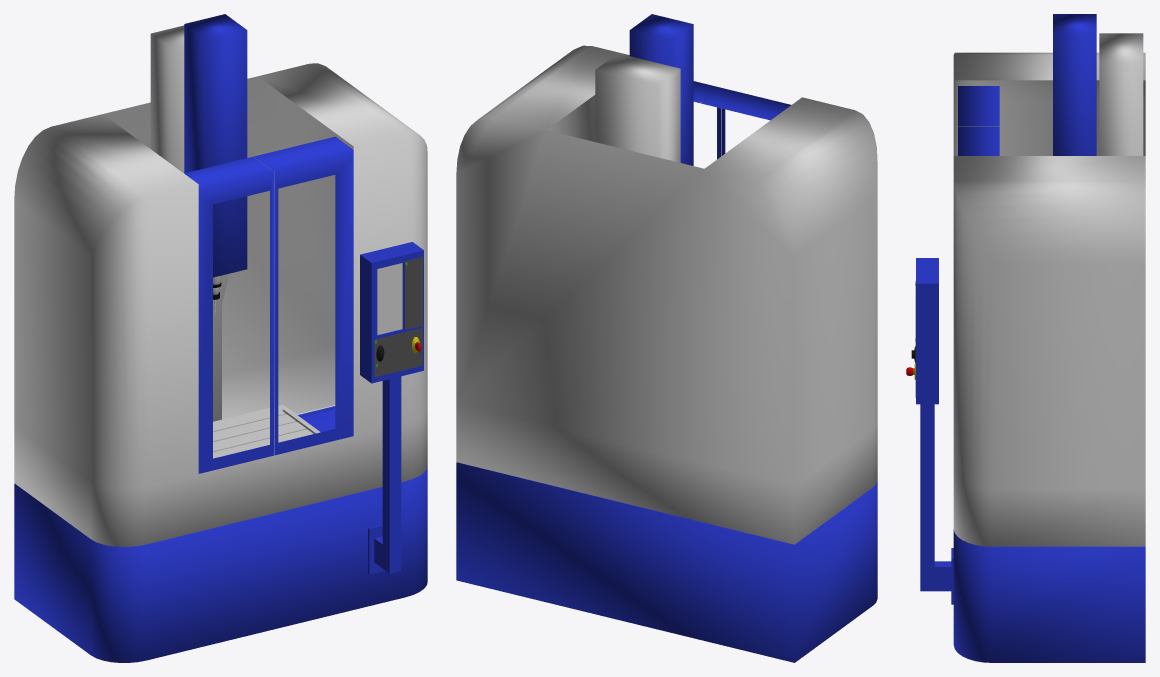
File: CNCMill1_clean_scaled.dae
3 renders of one model, left to right at view 1: azimuth 30°, elevation 25°; view 2: azimuth 150°, elevation 25°; view 3: azimuth 270°, elevation 25°, orthographic.
Visible parts, largest first — view 1: Cube, Cube_002, Cube_003, Cube_004, Cube_005, Cube_001; view 2: Cube, Cube_002, Cube_003; view 3: Cube, Cube_002, Cube_003, Cube_004.
Part boxes in pixels (x1,y1,x2,y2): Cube: [14, 63, 427, 546]; Cube_002: [14, 406, 427, 662]; Cube_003: [150, 14, 247, 421]; Cube_004: [360, 242, 423, 574]; Cube_005: [374, 257, 422, 377]; Cube_001: [213, 405, 320, 458]; Cube: [456, 45, 877, 544]; Cube_002: [456, 462, 877, 662]; Cube_003: [595, 14, 693, 165]; Cube: [953, 52, 1145, 546]; Cube_002: [953, 529, 1145, 662]; Cube_003: [1053, 14, 1143, 155]; Cube_004: [916, 258, 953, 604].
Size of the model in its own units: 1.5 by 0.9353 by 2.41.
